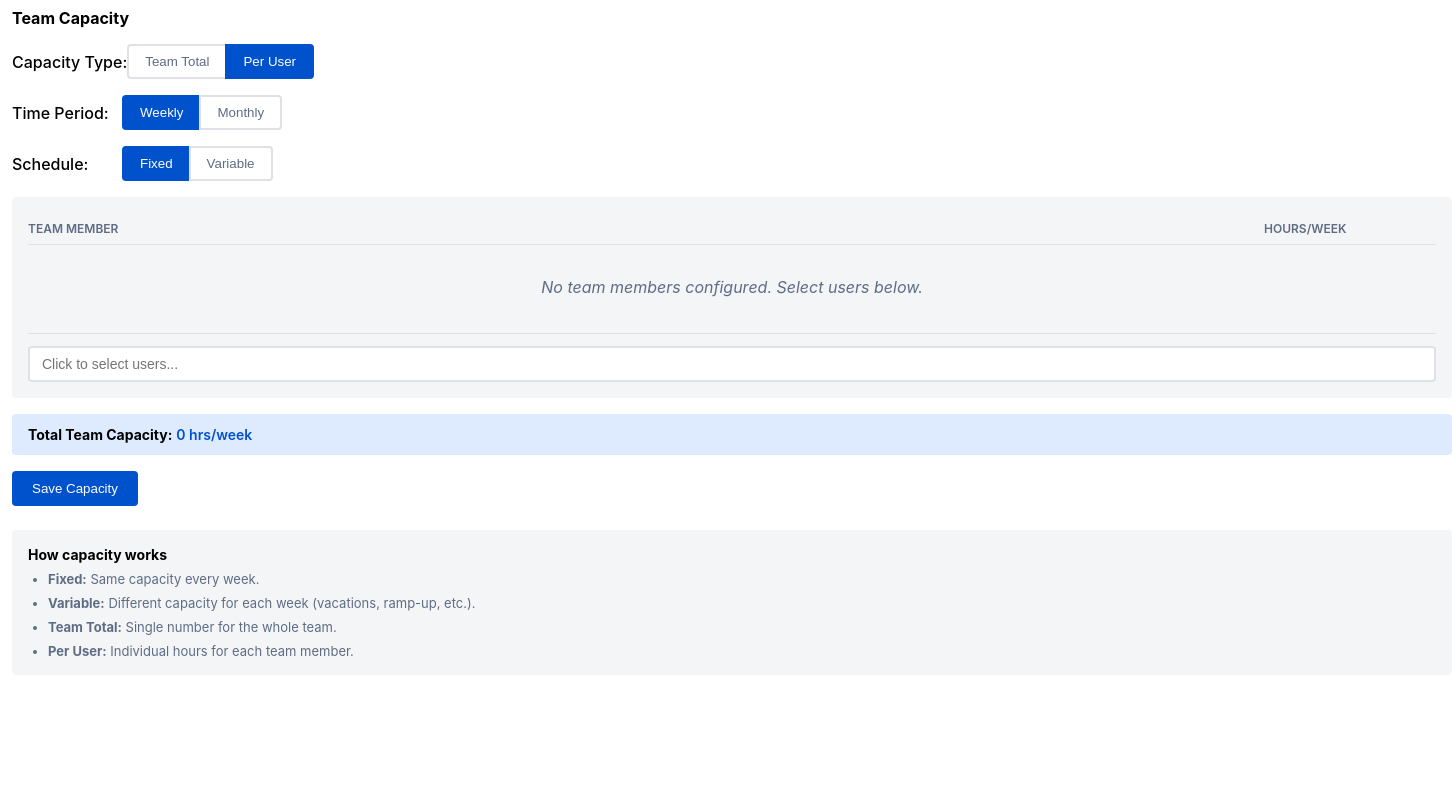
Test: CapacityPanel › User Search and Selection › shows user dropdown when users found
The width and height of the screenshot is (1452, 810).
Focus the field with placeholder "Click to select users...": point(732, 364) [28,346,1436,382]
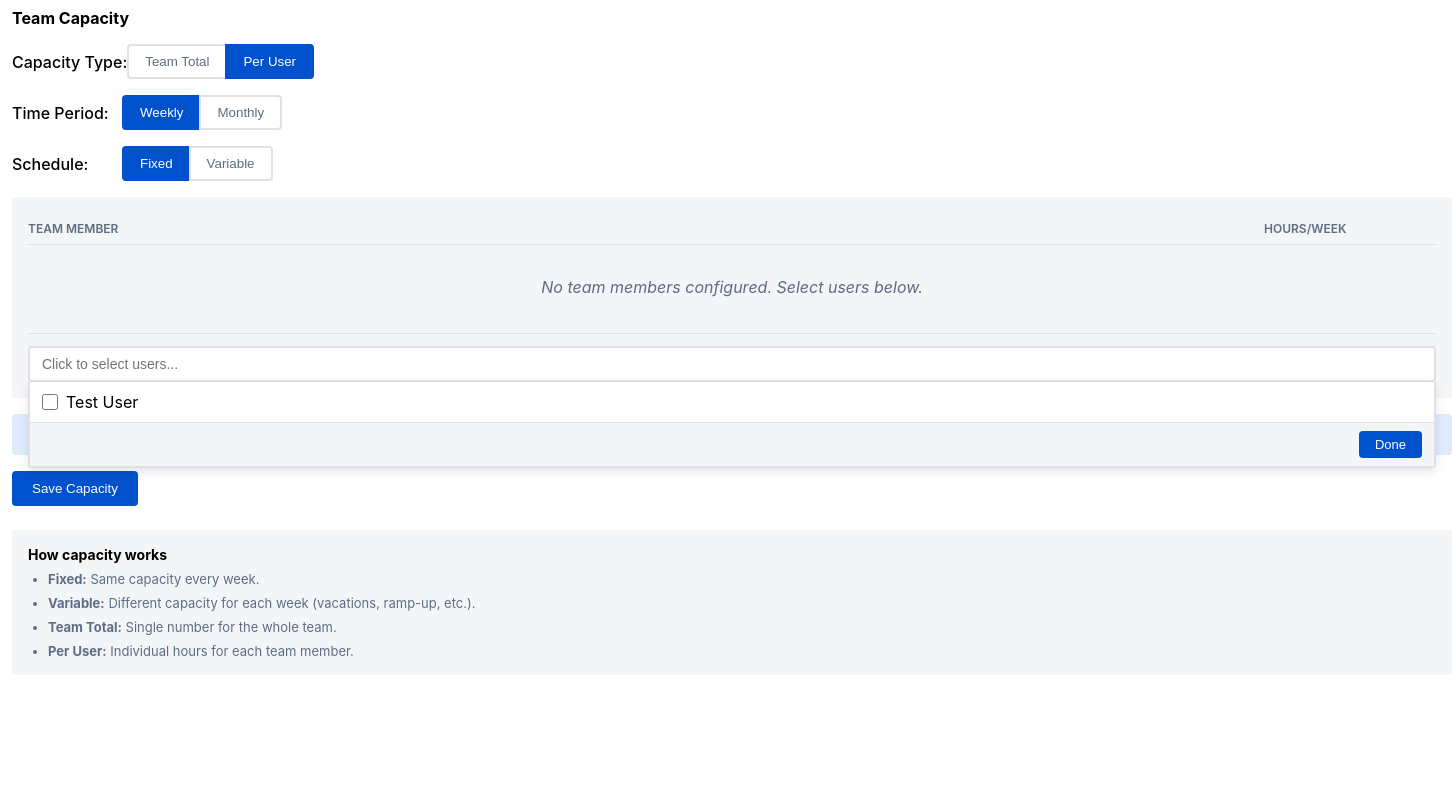
Expected: the text "Test User" is shown, [66,392,138,412]
